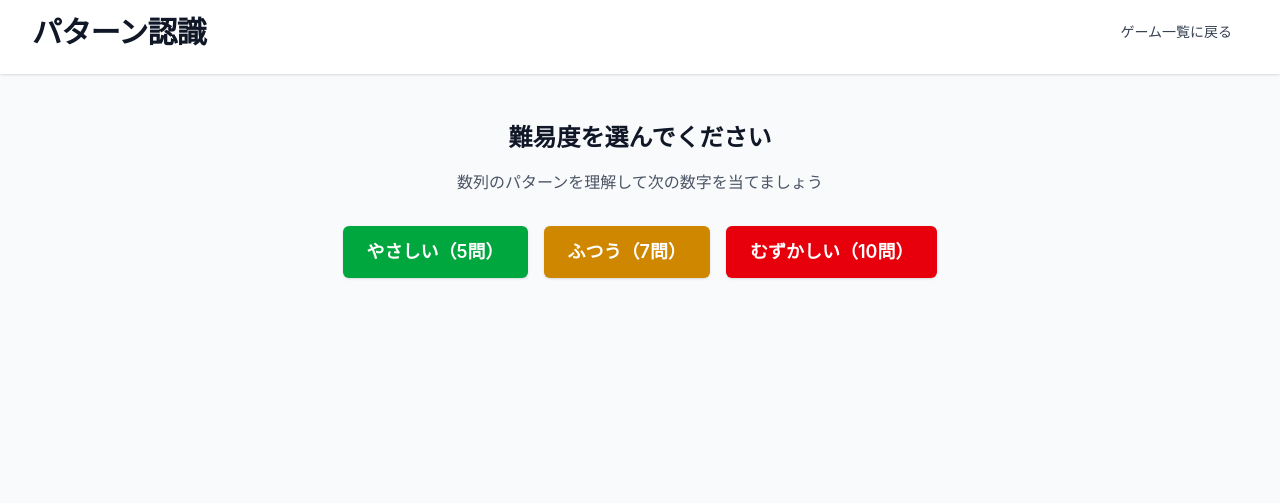
Test case: PatternGame › should answer a question and show feedback
Click the button "やさしい（5問）": x=435, y=252 342,226 -> 528,278
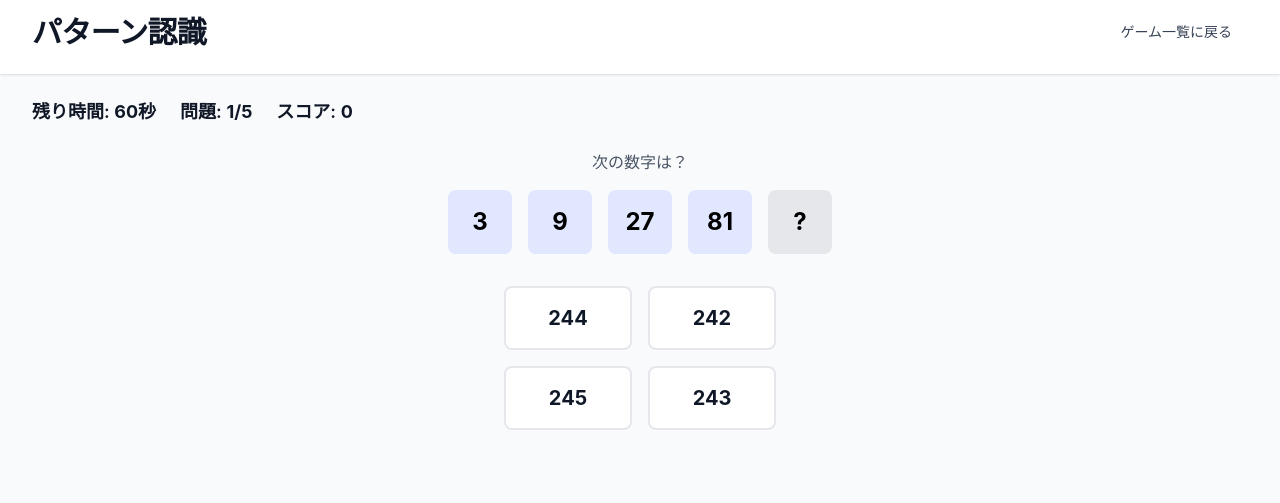
Click the button "244": x=568, y=318 504,286 -> 632,350
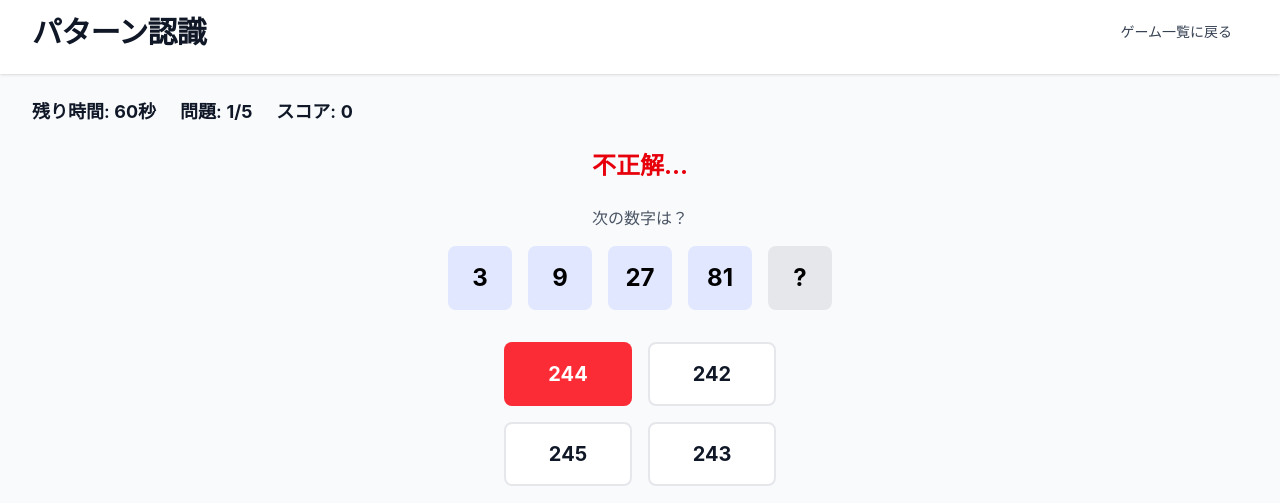
Expected: the text "不正解..." is shown, 592,151 -> 688,180
